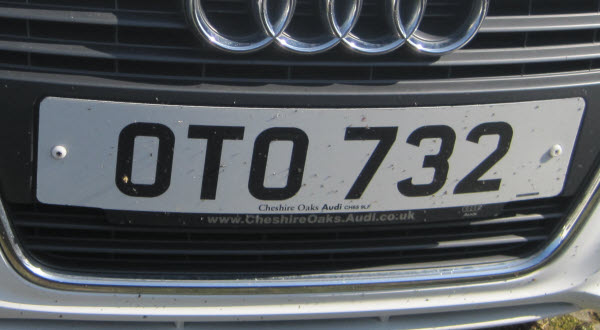license_plate: (36, 97, 586, 216)
